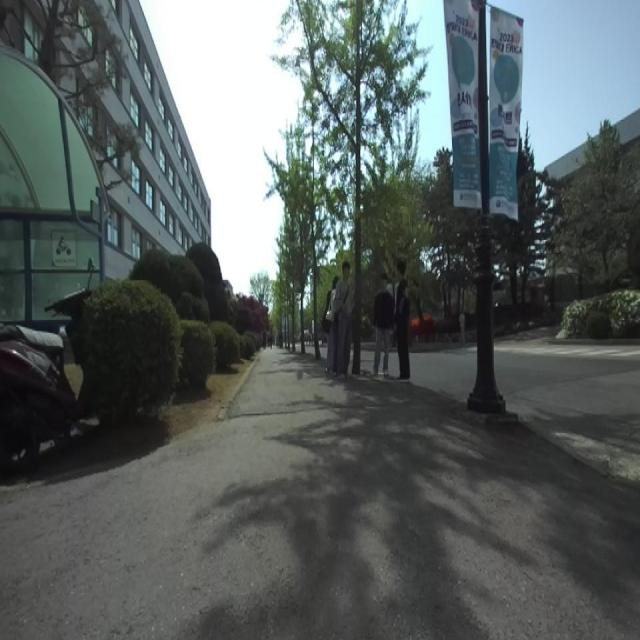sidewalk: (140, 348, 640, 640)
